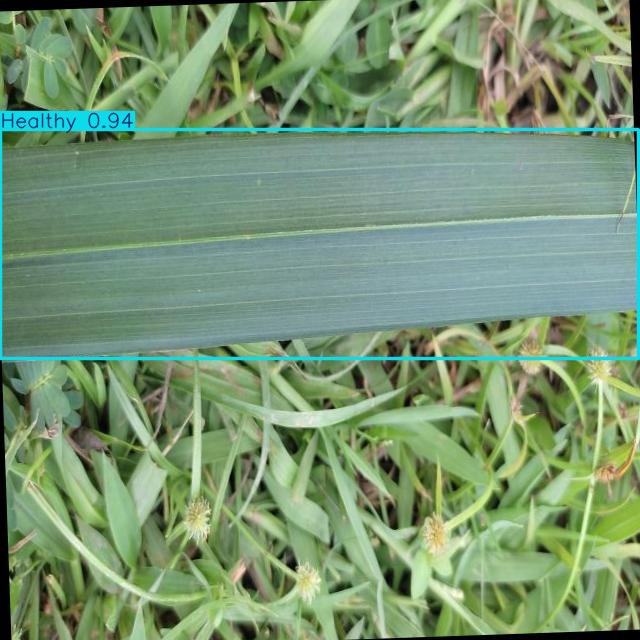Healthy: (0, 130, 638, 359)
